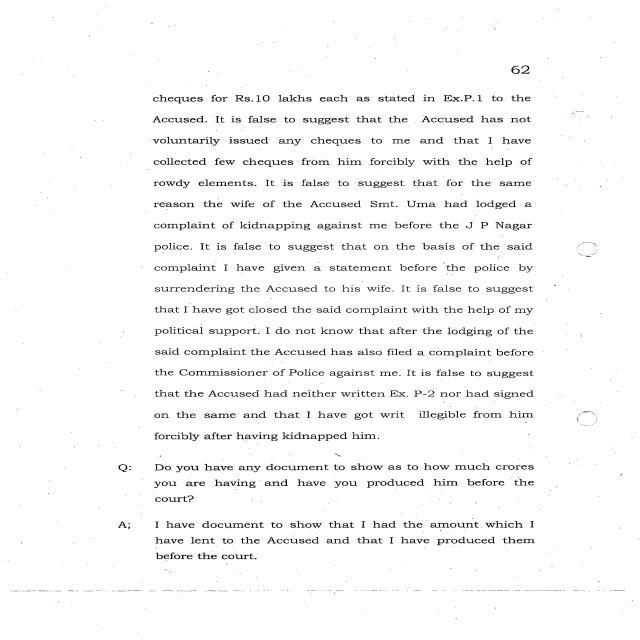page-number: (404, 8, 620, 86)
